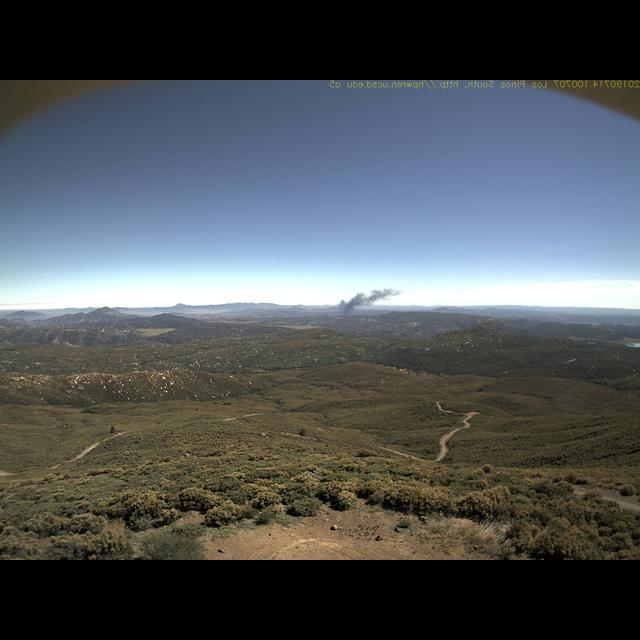Smoke: (326, 284, 406, 325)
